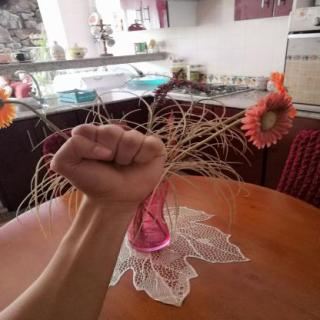SAD: (35, 112, 177, 215)
